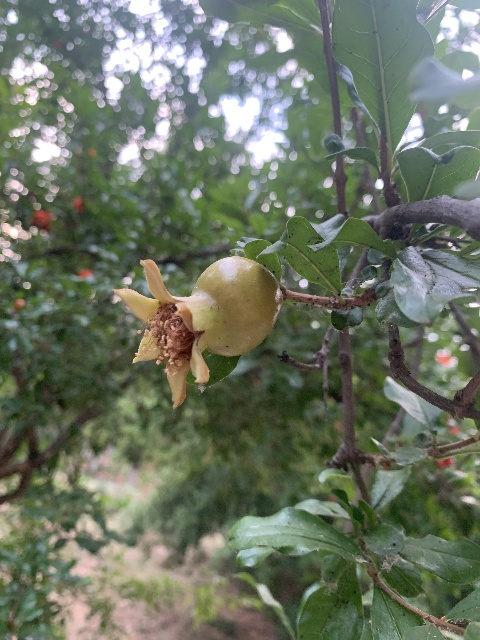mid-growth: (112, 256, 281, 409)
